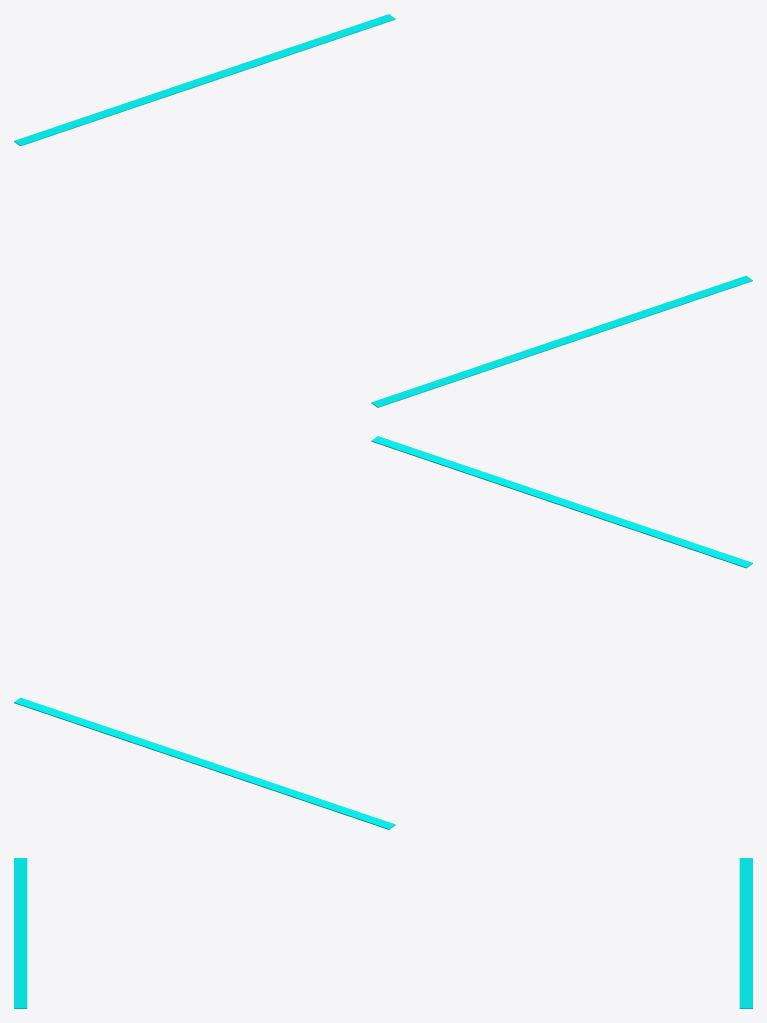
File: LEDSforWideDesktop.glb
The picture shows the model from 3 angles, top to bottom: view 1: azimuth 30°, elevation 25°; view 2: azimuth 150°, elevation 25°; view 3: azimuth 270°, elevation 25°; orthographic projection.
Size of the model in its own units: 28.59 by 2.63 by 48.03.
